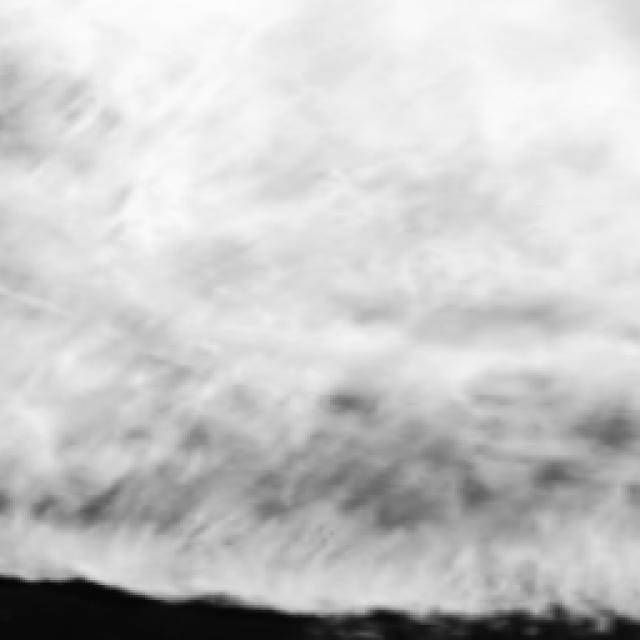CB: (191, 11, 610, 143)
